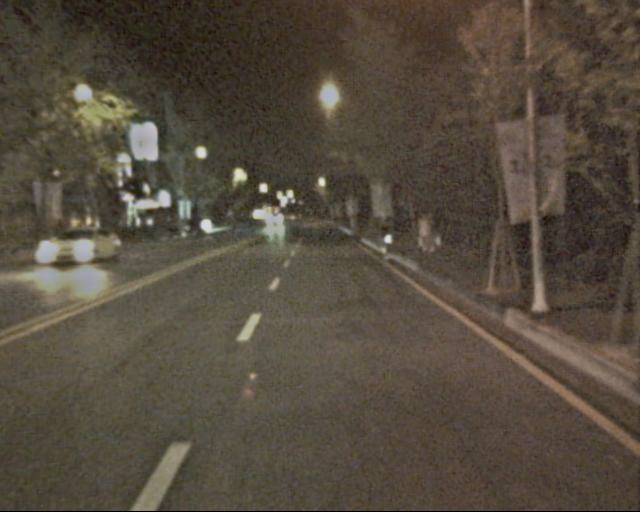person: (413, 216, 431, 256), (376, 222, 393, 262), (422, 217, 438, 255)
